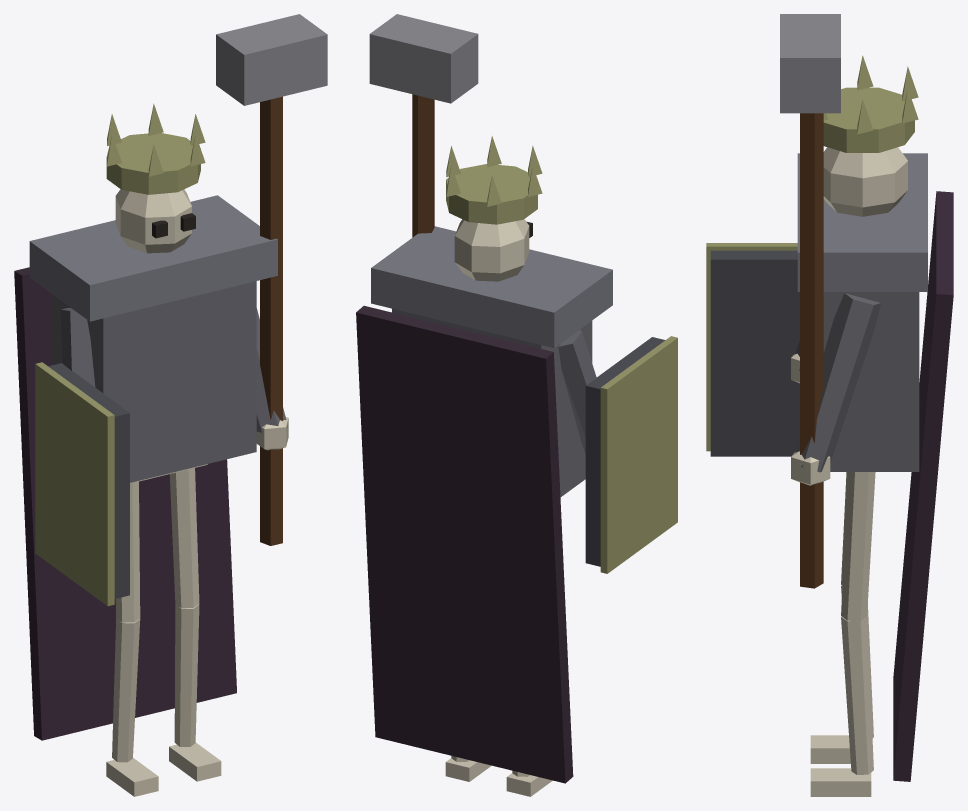
Rendered from gruftfuerst.glb.
3 views of the same model, side by side, from view 1: azimuth 30°, elevation 25°; view 2: azimuth 150°, elevation 25°; view 3: azimuth 270°, elevation 25° (orthographic). The views are drawn at different scales.
Size of the model in its own units: 0.949 by 2.6 by 0.7403.
1 material, 1 textured.
